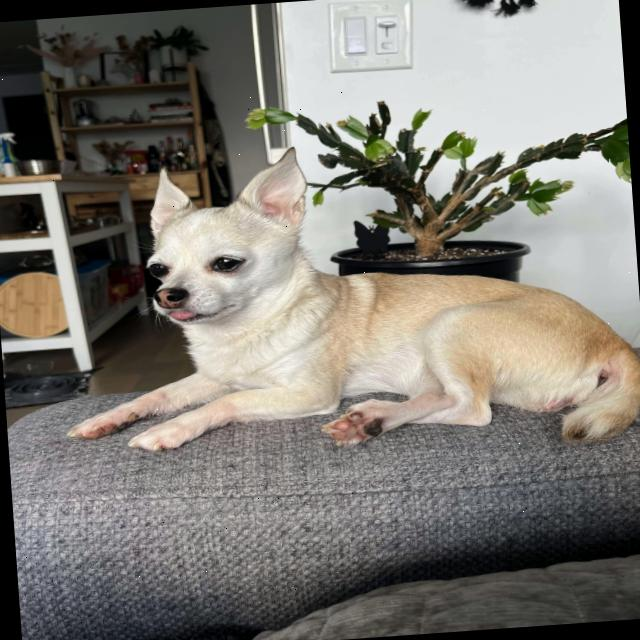chihuahua_dog: (99, 140, 339, 340)
